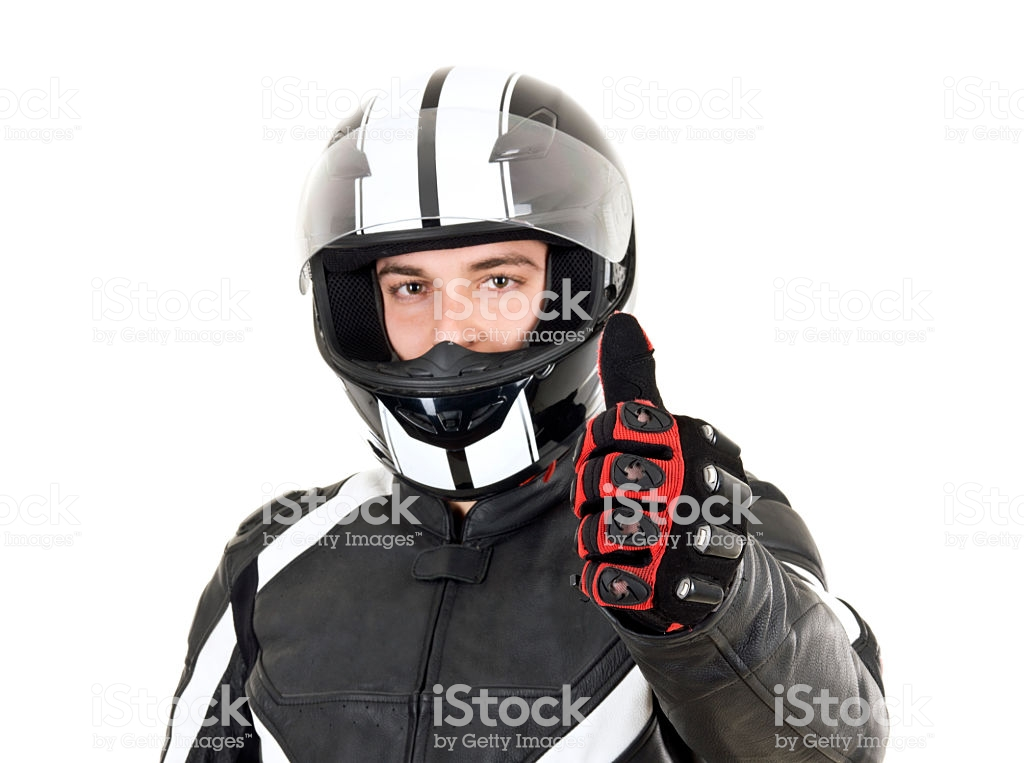helmet: (288, 66, 637, 464)
